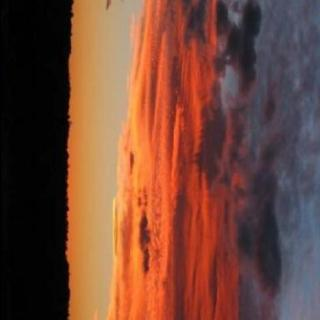Altostratus: (62, 0, 320, 320)
